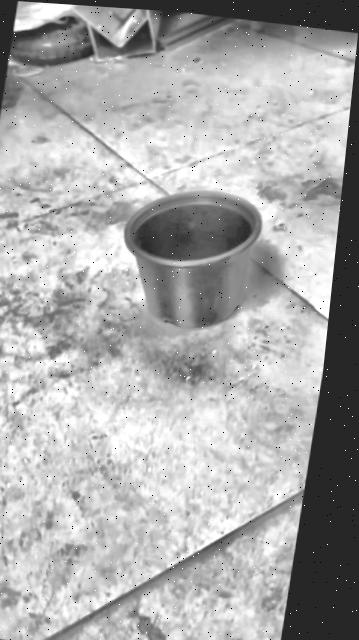pot: (108, 181, 266, 335)
